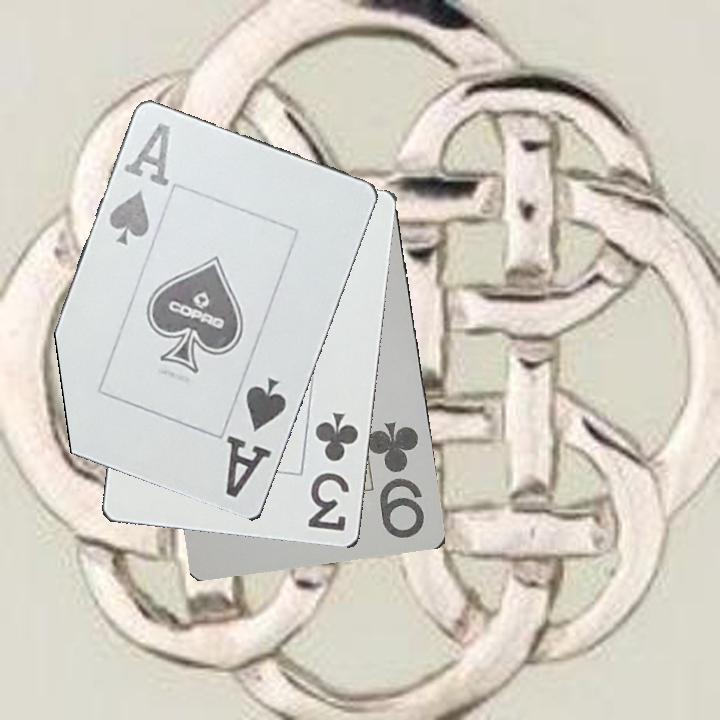3c: (304, 408, 362, 534)
9c: (368, 418, 428, 542)
As: (105, 119, 174, 248), (222, 374, 290, 502)
